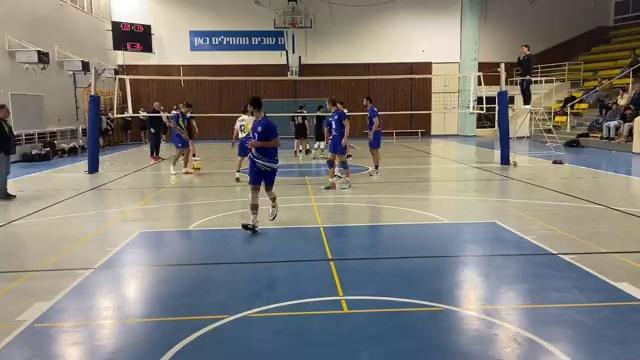ball: (189, 160, 208, 179)
